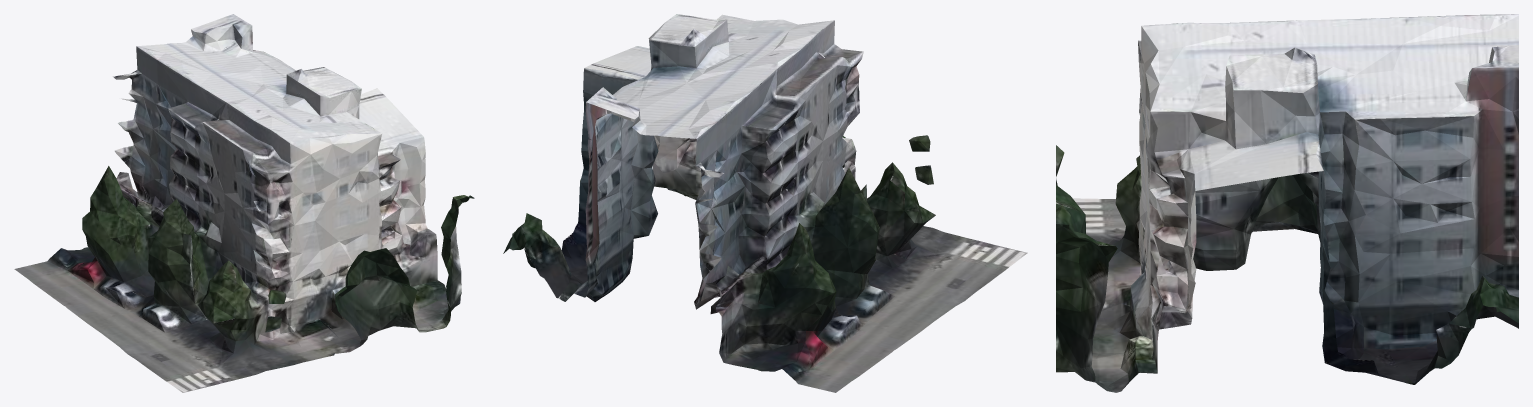
File: helsinki-2-4.glb
3 views of the same model, side by side, from view 1: azimuth 30°, elevation 25°; view 2: azimuth 150°, elevation 25°; view 3: azimuth 270°, elevation 25° (orthographic). The views are drawn at different scales.
Bounding box in the file's own units: 31.75 × 22.03 × 31.75.
Materials: 1 (1 with a texture image).
